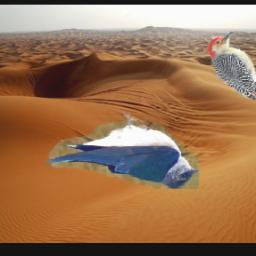Swallow: (47, 113, 200, 190)
Woodpecker: (207, 32, 256, 101)
